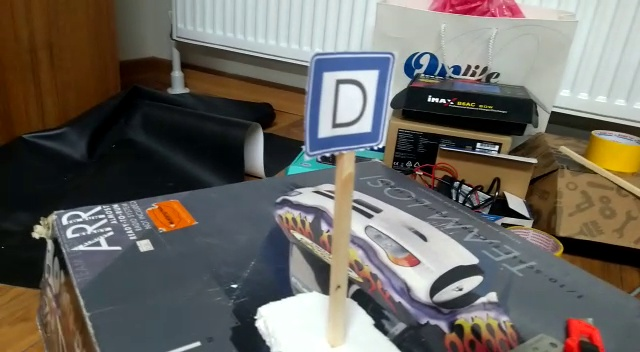durak: (302, 51, 391, 151)
